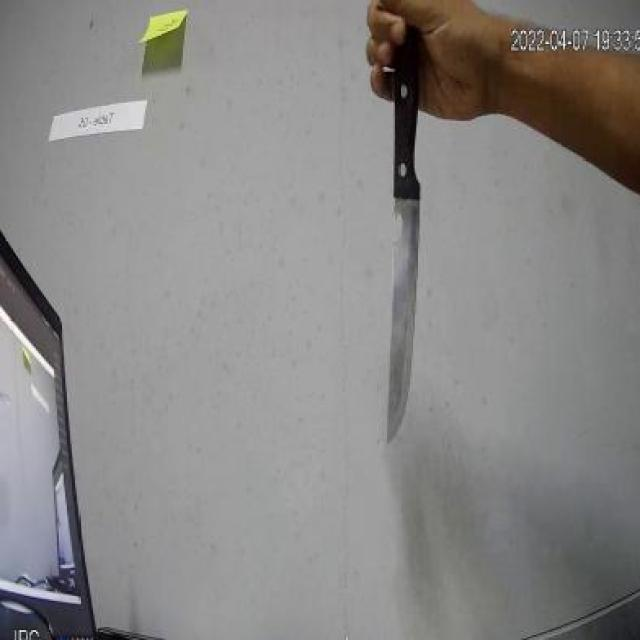Knife: (362, 42, 442, 461)
